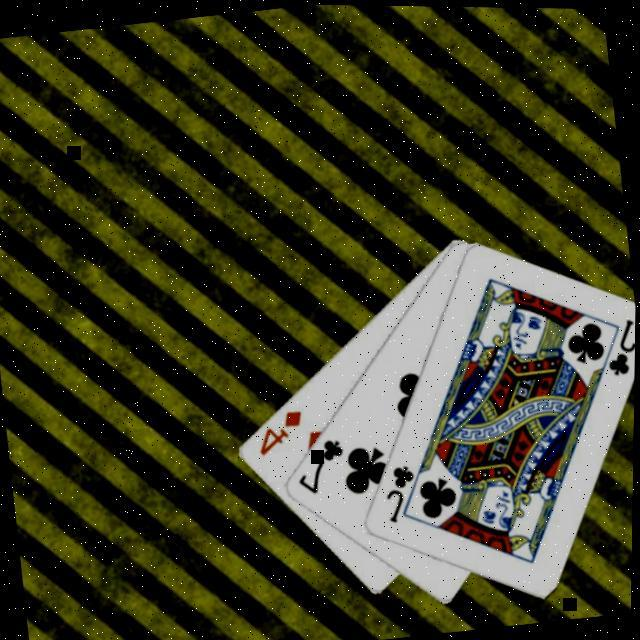4D: (250, 404, 308, 459)
7C: (289, 433, 351, 498)
JC: (377, 460, 421, 526), (598, 313, 637, 379)
